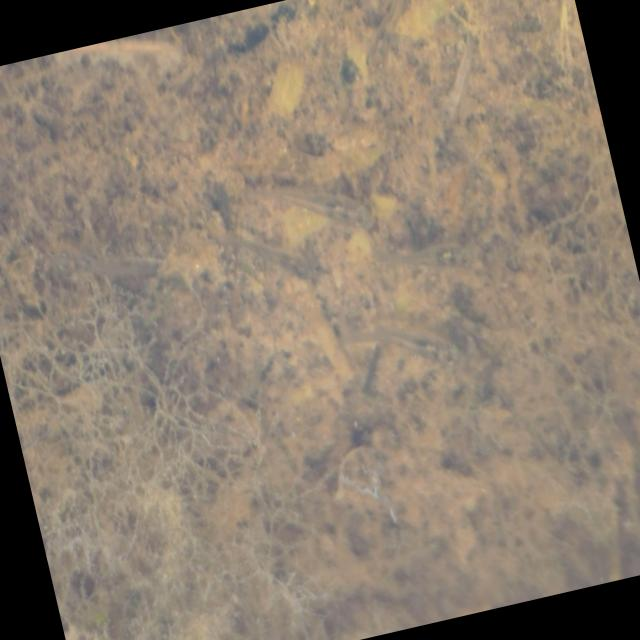Sivrisinek Baligi: (242, 148, 376, 256), (330, 302, 457, 397), (378, 220, 479, 292)
